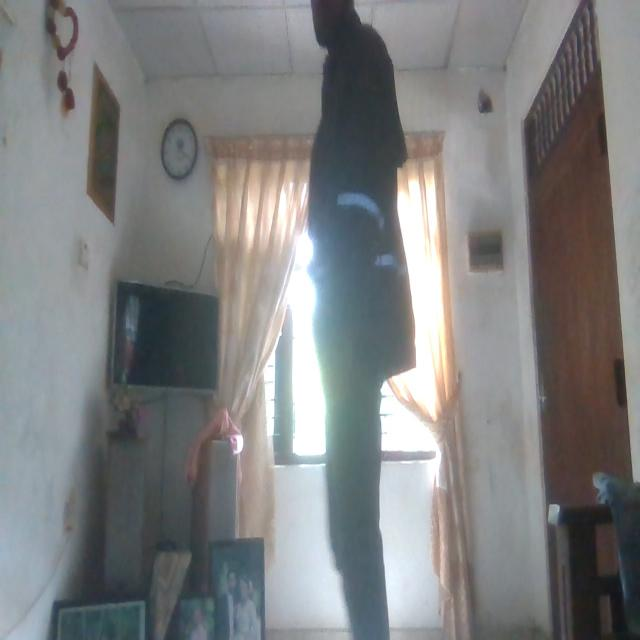Jacket_Wearer: (296, 36, 422, 388)
Person: (301, 0, 420, 640)
